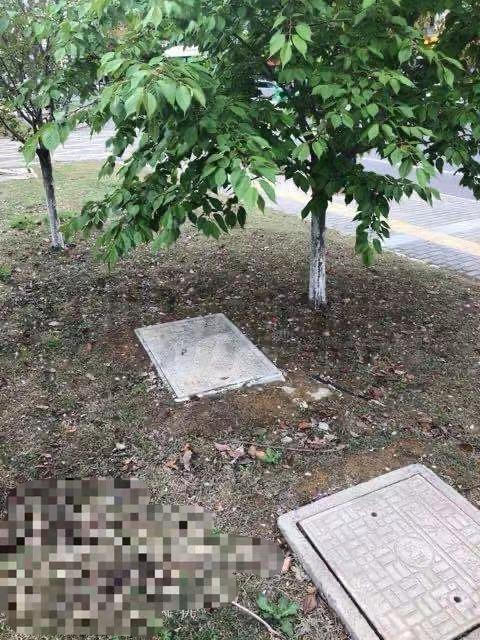wellcover: (267, 434, 480, 640), (131, 308, 286, 411)
